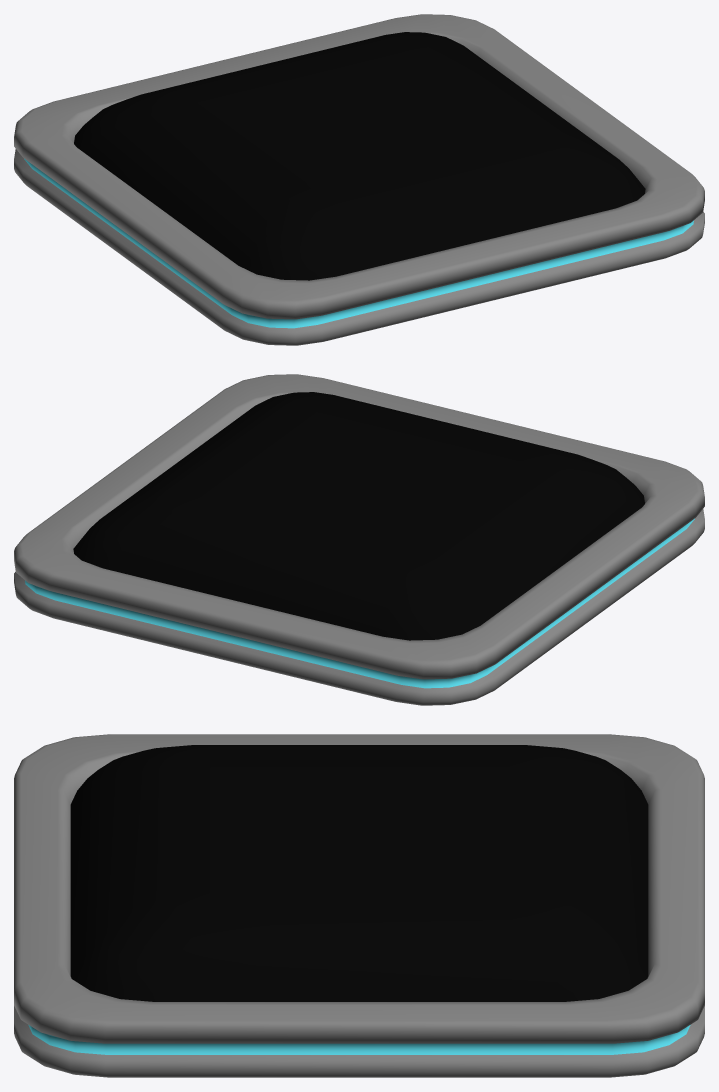
The model's file is Tile.fbx.
3 renders of one model, top to bottom at view 1: azimuth 30°, elevation 25°; view 2: azimuth 150°, elevation 25°; view 3: azimuth 270°, elevation 25°, orthographic. The views are drawn at different scales.
Visible parts, largest first — view 1: Tile; view 2: Tile; view 3: Tile.
Part boxes in pixels (box(x1,y1,x2,y2)): Tile: box(14, 14, 704, 345); Tile: box(14, 374, 704, 705); Tile: box(14, 734, 704, 1077).
Size of the model in its own units: 200 by 48.3 by 200.
